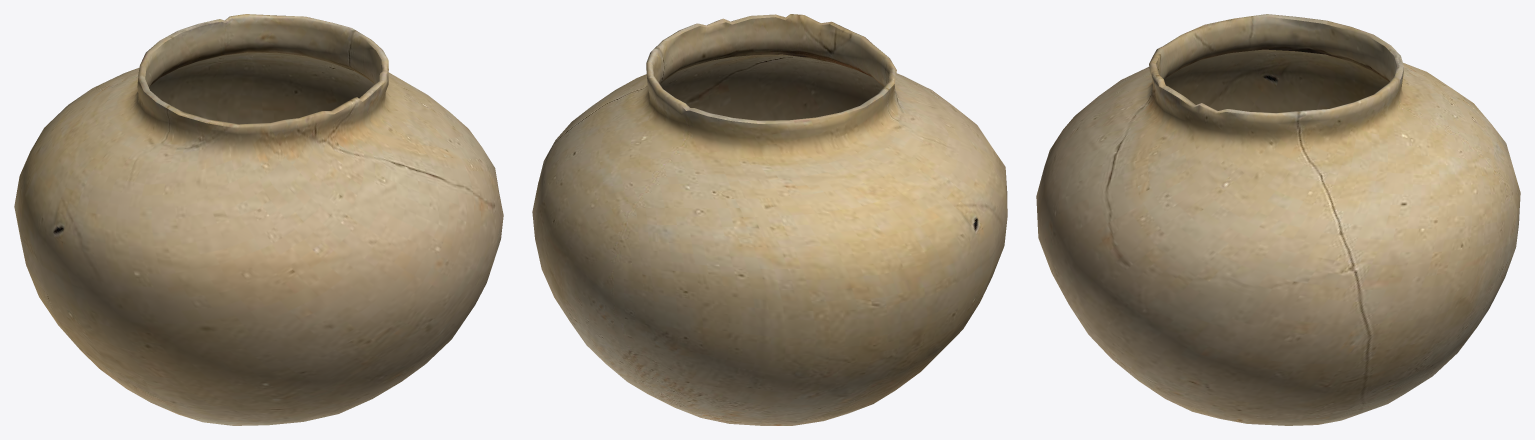
Rendered from antiquity2_22.fbx.
The picture shows the model from 3 angles, left to right: view 1: azimuth 30°, elevation 25°; view 2: azimuth 150°, elevation 25°; view 3: azimuth 270°, elevation 25°; orthographic projection.
Visible parts, largest first — view 1: 0544; view 2: 0544; view 3: 0544.
Part boxes in pixels (box(x1,y1,x2,y2)): 0544: box(14, 14, 503, 425); 0544: box(532, 14, 1007, 425); 0544: box(1036, 14, 1520, 425).
Bounding box in the file's own units: 39.16 × 28.93 × 38.99.
Materials: 1 (1 with a texture image).
